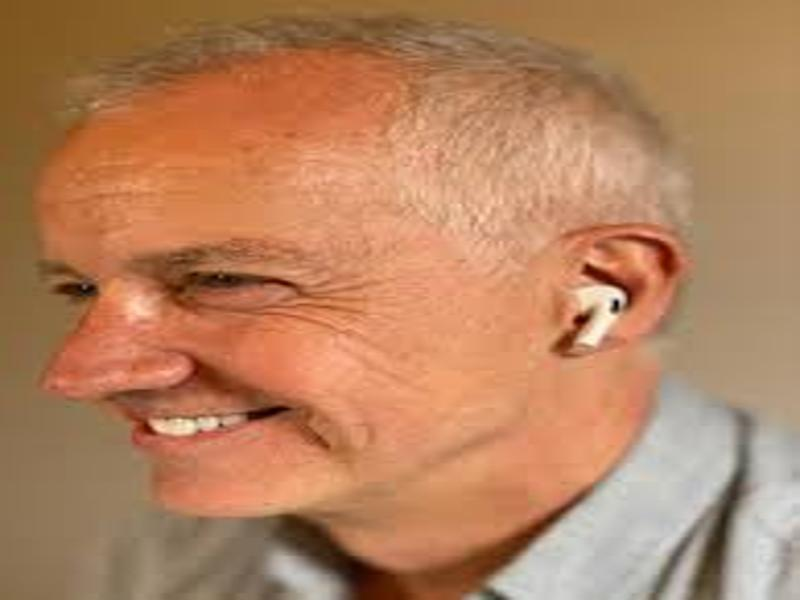headphone: (564, 281, 632, 354)
